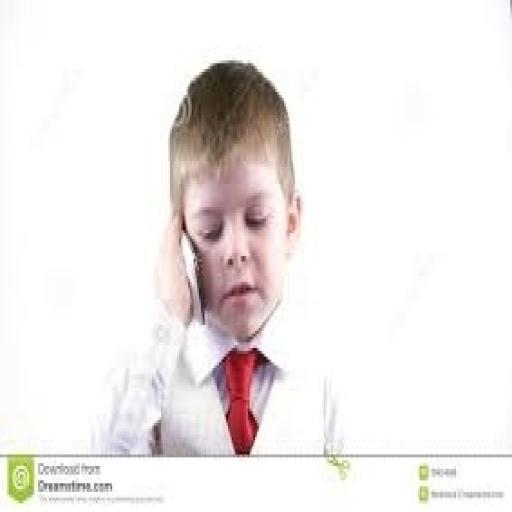calling: (89, 55, 347, 457)
